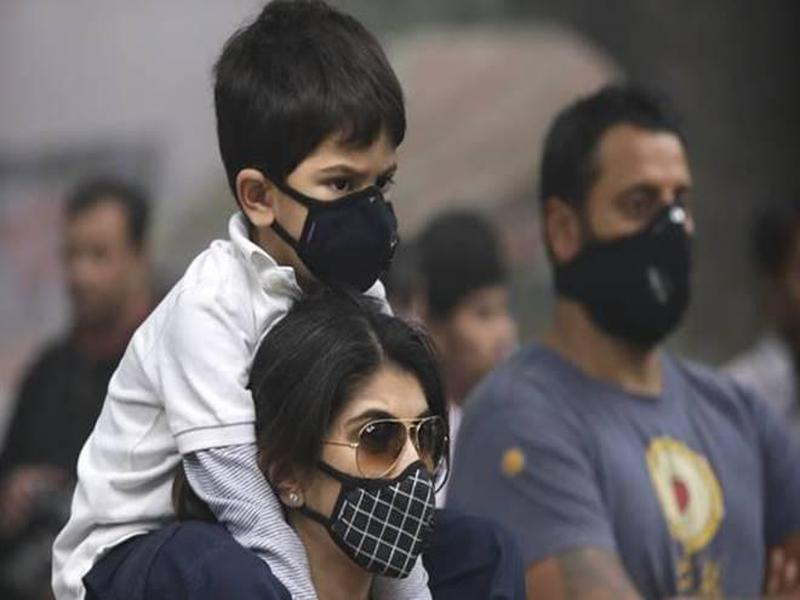with_mask: (217, 4, 411, 301), (251, 304, 450, 583), (537, 83, 698, 367)
without_mask: (407, 208, 517, 400), (61, 180, 154, 341)
